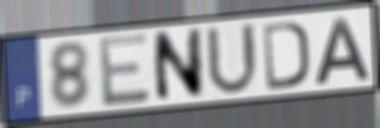8: (46, 38, 94, 113)
A: (312, 15, 372, 87)
D: (261, 19, 312, 93)
E: (95, 30, 153, 110)
N: (150, 25, 205, 105)
U: (203, 21, 261, 99)
